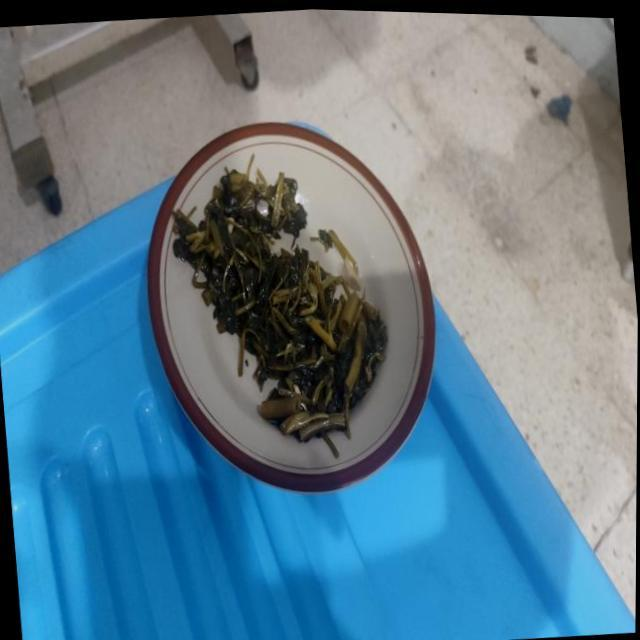tumis_kangkung: (172, 154, 387, 440)
